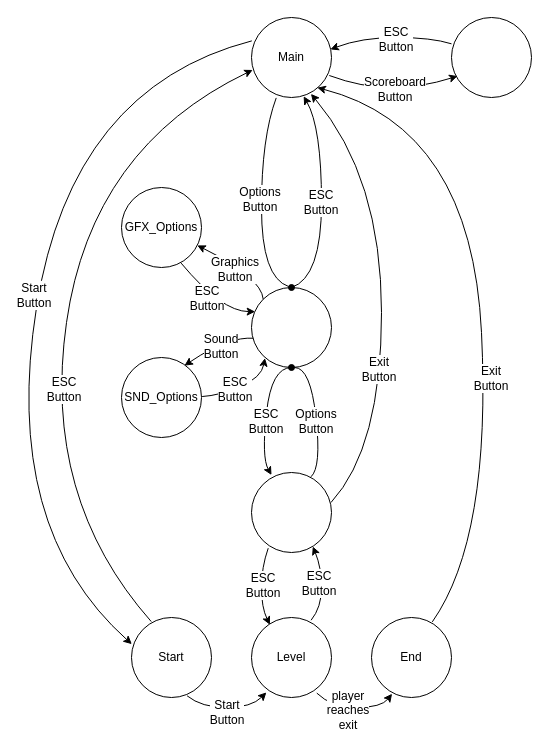
Image size: 549x749. Some labels were removed from this diagram. Here are the shapes that lost their labels. From the top down, the centre of each, then its label:
(x=491, y=57): Scoreboard
(x=291, y=327): Options
(x=291, y=512): Pause
